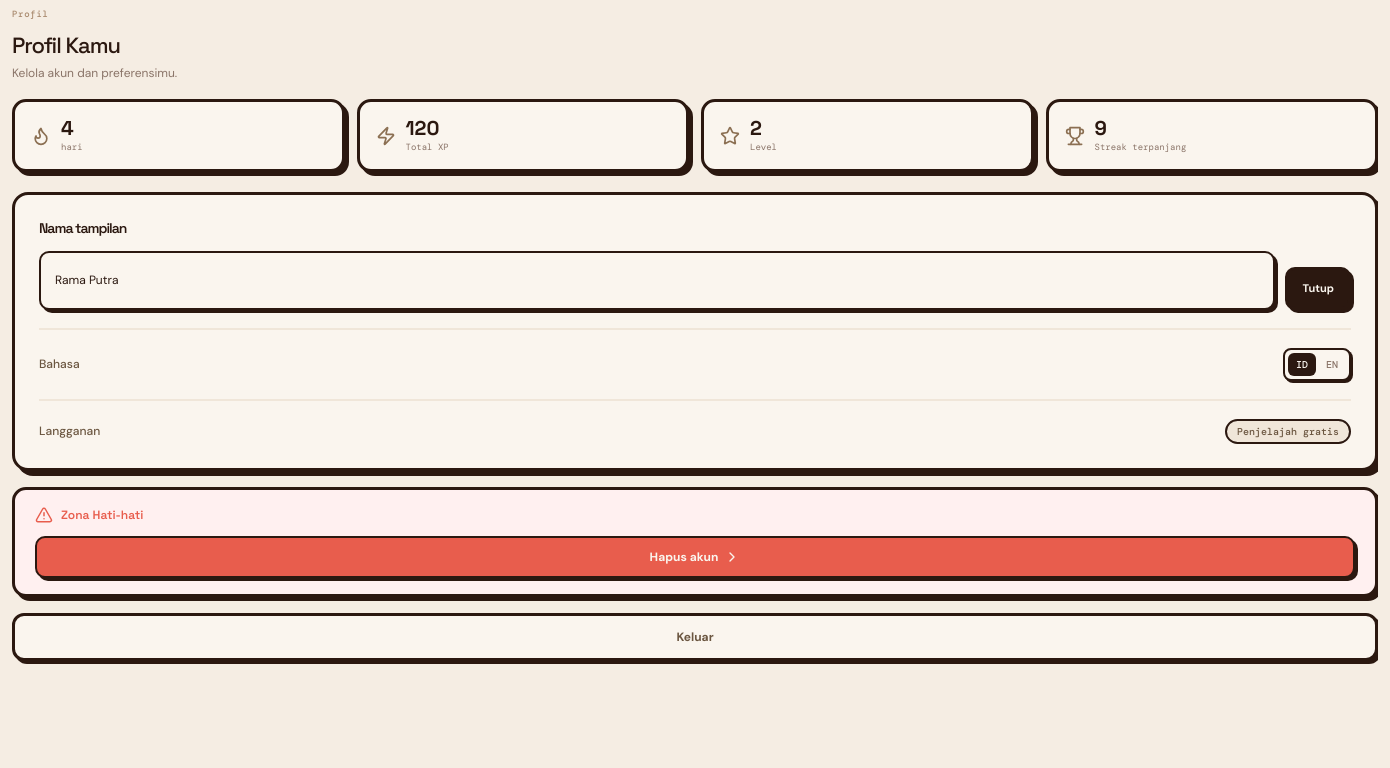
ProfileView › saves an edited display name to the profiles row
The width and height of the screenshot is (1390, 768).
Clear the field with placeholder "Nama tampilan". click: (657, 280)
box: [39,251,1276,310]
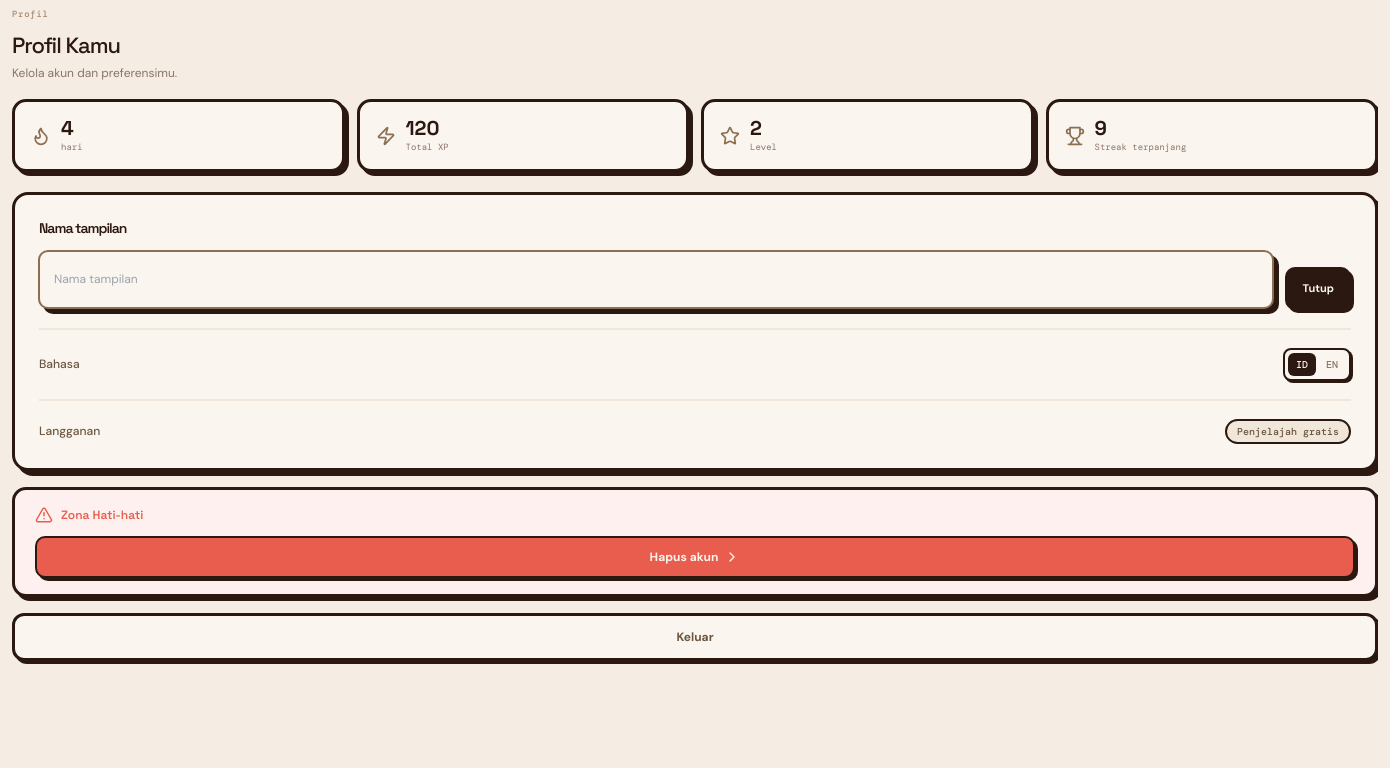
Type "Rama Baru" into the field with placeholder "Nama tampilan". click: (656, 279)
box: [38,250,1274,309]
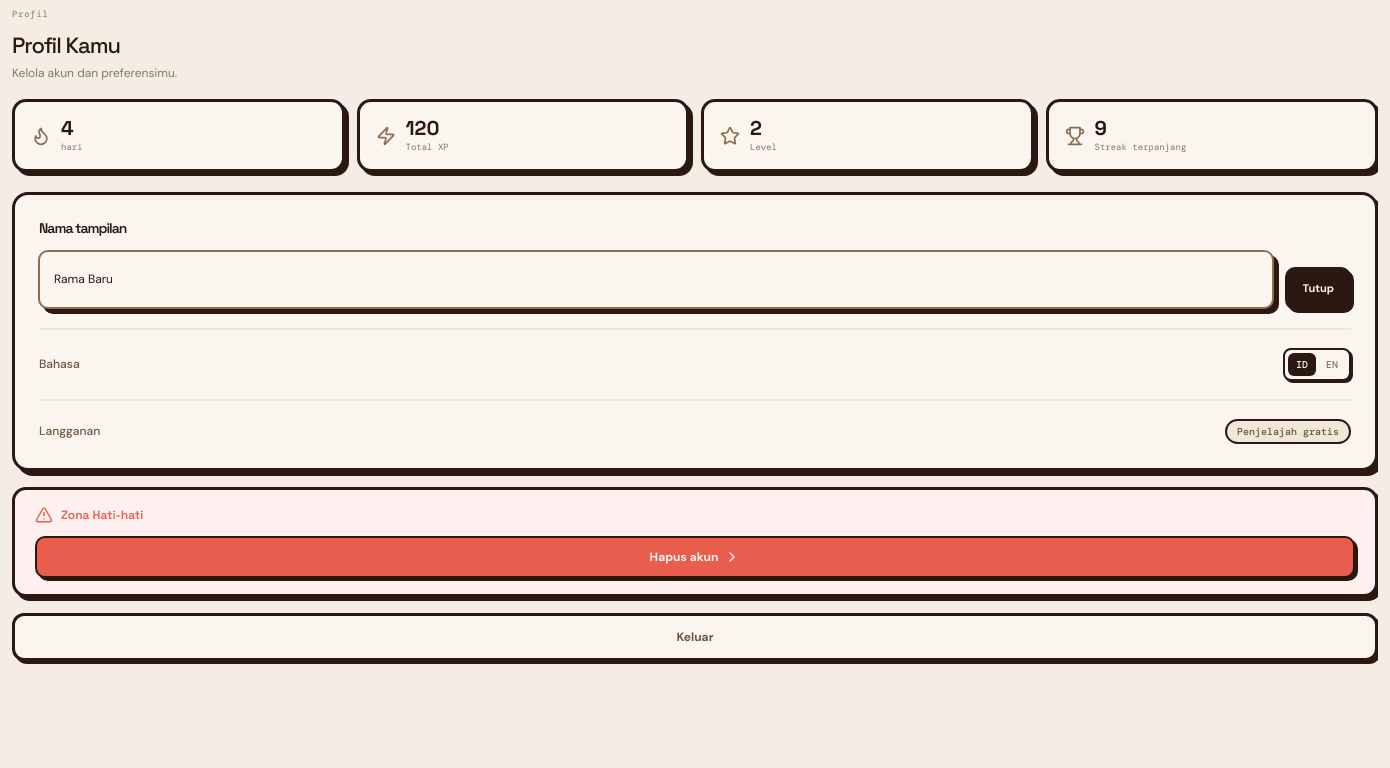
The save control sits next to the name input.
Click the button "Tutup". click: (1318, 288)
box: [1286,267,1351,310]
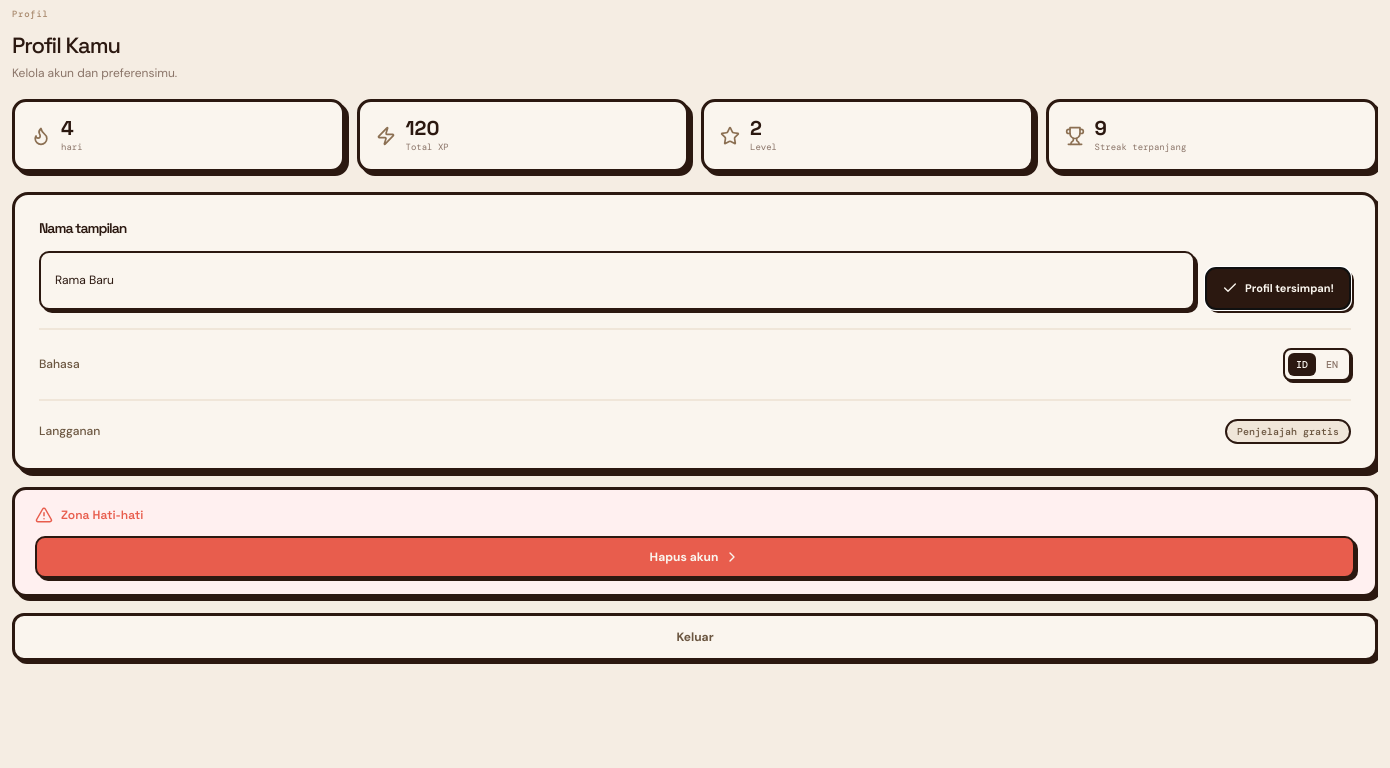
Result: the button "Profil tersimpan!" is shown at [1205,267,1351,310]
